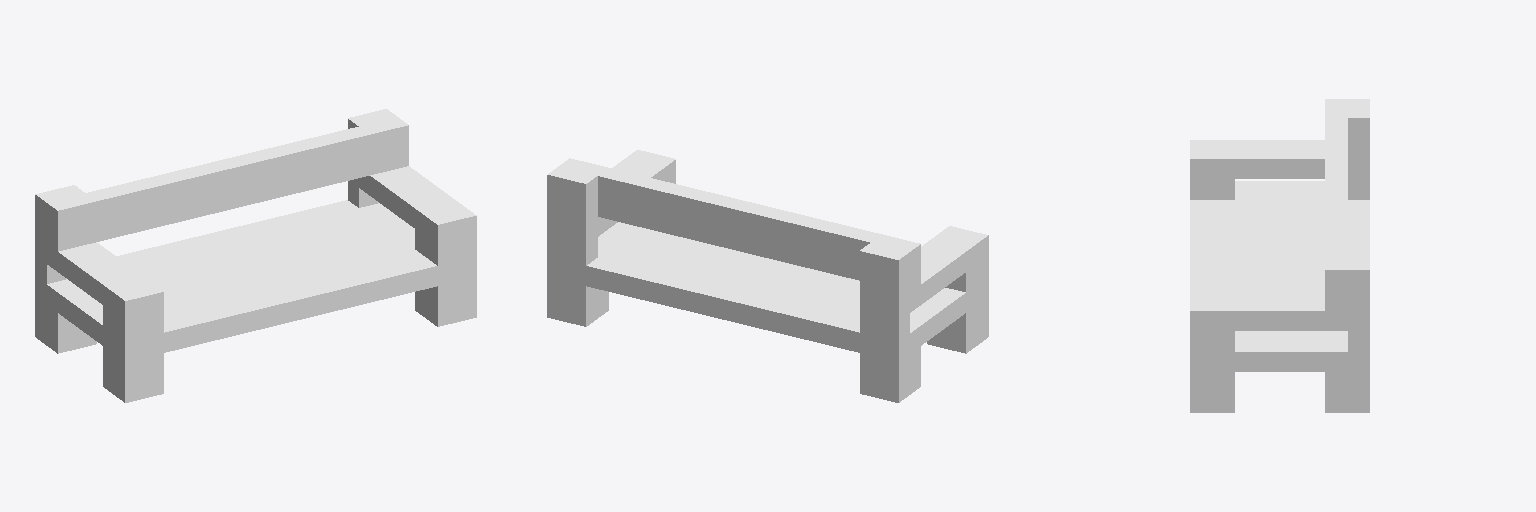
Rendered from Bench.vox.obj.
The picture shows the model from 3 angles: view 1: azimuth 30°, elevation 25°; view 2: azimuth 150°, elevation 25°; view 3: azimuth 270°, elevation 25°; orthographic projection.
Visible parts, largest first — view 1: object 1; view 2: object 1; view 3: object 1.
Boxes of the visible parts, box(x1,y1,x2,y2) form: object 1: box(35, 109, 476, 402); object 1: box(547, 150, 988, 402); object 1: box(1190, 99, 1369, 412).
Size of the model in its own units: 1.8 by 0.7 by 0.8.